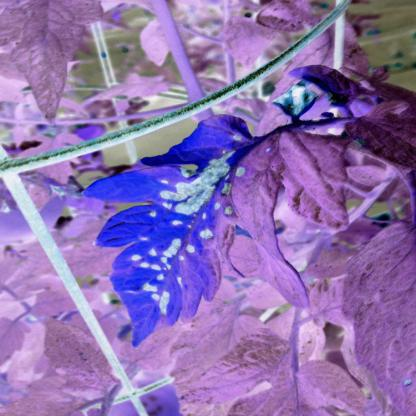tomato leaf bacterial spot: (143, 109, 415, 251)
